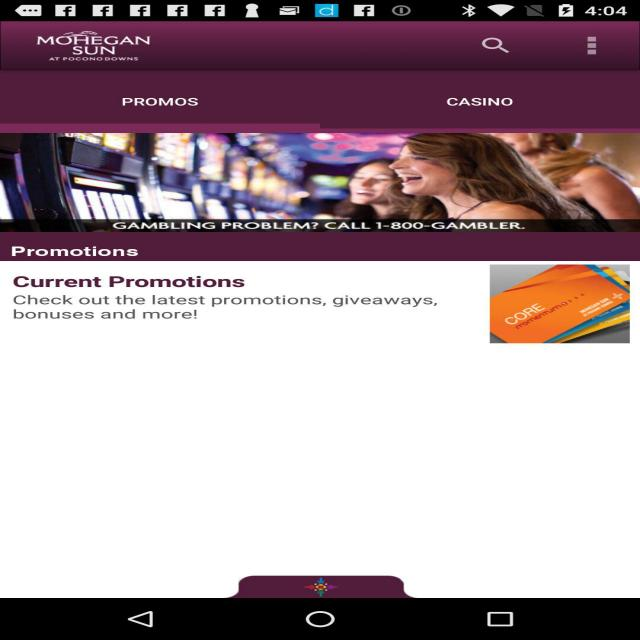button: (465, 34, 537, 66), (573, 29, 620, 64)
icon: (10, 130, 640, 231), (487, 266, 636, 346), (25, 26, 172, 70)
text: (8, 272, 454, 334), (424, 91, 569, 114), (116, 86, 231, 115), (4, 241, 172, 260)
